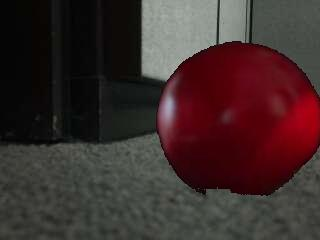Tomato: (156, 40, 320, 198)
